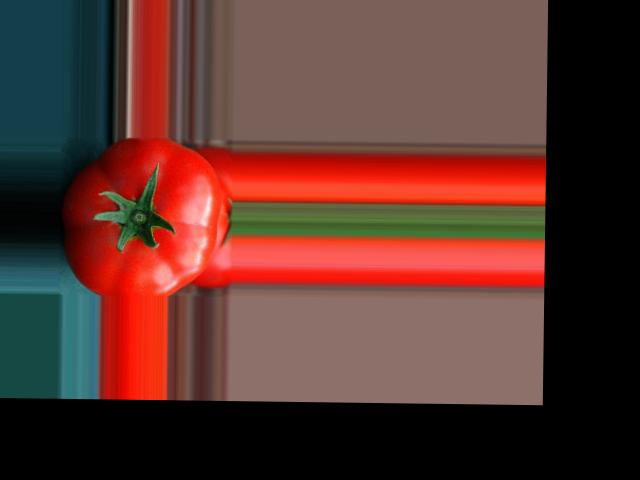tomato: (61, 135, 222, 297)
